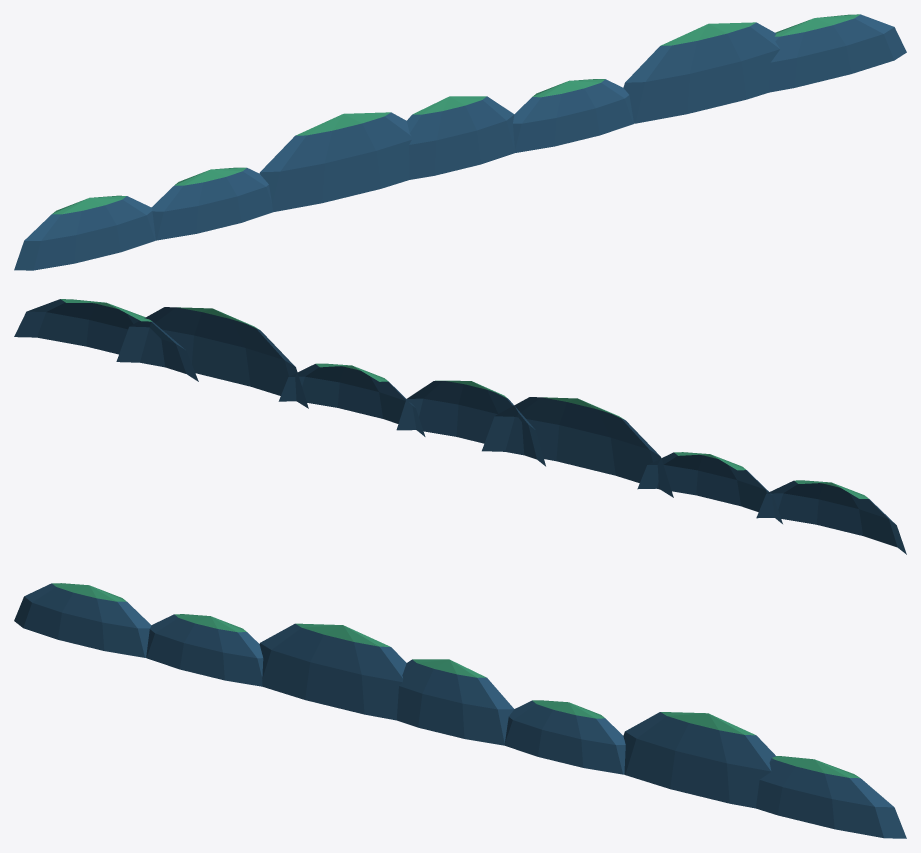
The model's file is hills.glb.
3 renders of one model, top to bottom at view 1: azimuth 30°, elevation 25°; view 2: azimuth 150°, elevation 25°; view 3: azimuth 330°, elevation 25°, orthographic.
Parts seen in each view (by area): view 1: Hills; view 2: Hills; view 3: Hills.
Part boxes in pixels (x1,y1,x2,y2): Hills: [14, 14, 906, 270]; Hills: [14, 299, 906, 554]; Hills: [14, 583, 906, 838].
Bounding box in the file's own units: 29.44 × 2.43 × 0.6225.
